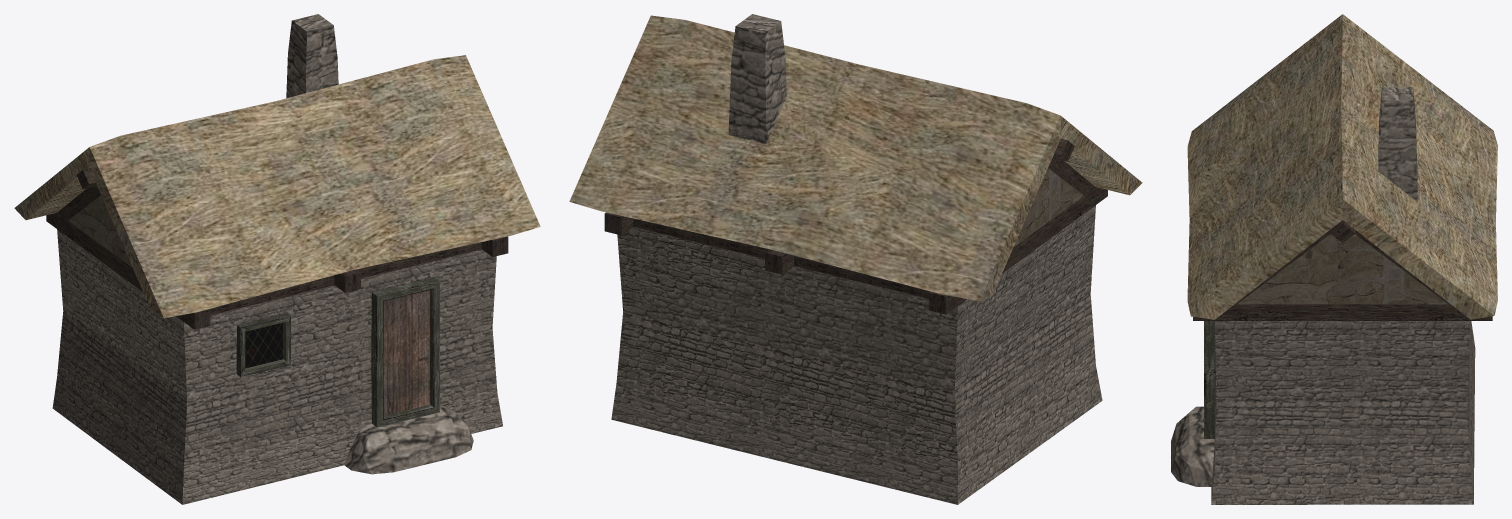
The model's file is stonehouse.fbx.
3 renders of one model, left to right at view 1: azimuth 30°, elevation 25°; view 2: azimuth 150°, elevation 25°; view 3: azimuth 270°, elevation 25°, orthographic. The views are drawn at different scales.
Parts seen in each view (by area): view 1: Cube; view 2: Cube; view 3: Cube.
Boxes of the visible parts, box(x1,y1,x2,y2) form: Cube: box(14, 14, 540, 504); Cube: box(569, 14, 1142, 504); Cube: box(1171, 14, 1497, 504).
Bounding box in the file's own units: 12.4 × 10.96 × 8.95.
Materials: 1 (1 with a texture image).
